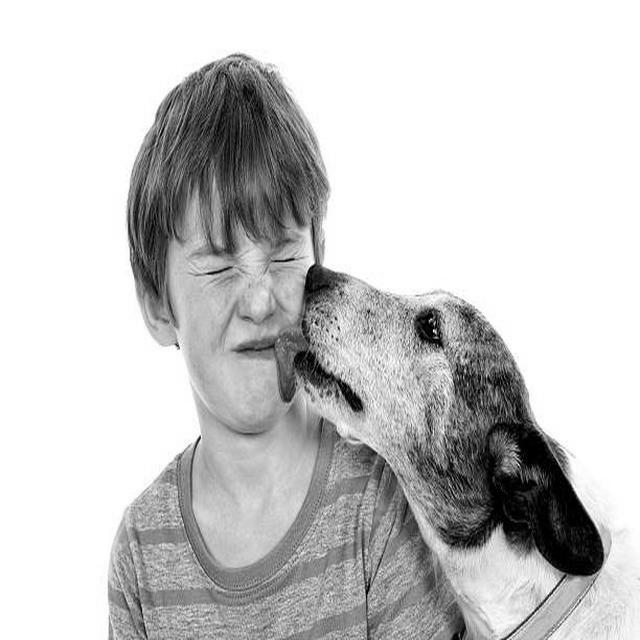Disgust: (164, 184, 316, 434)
